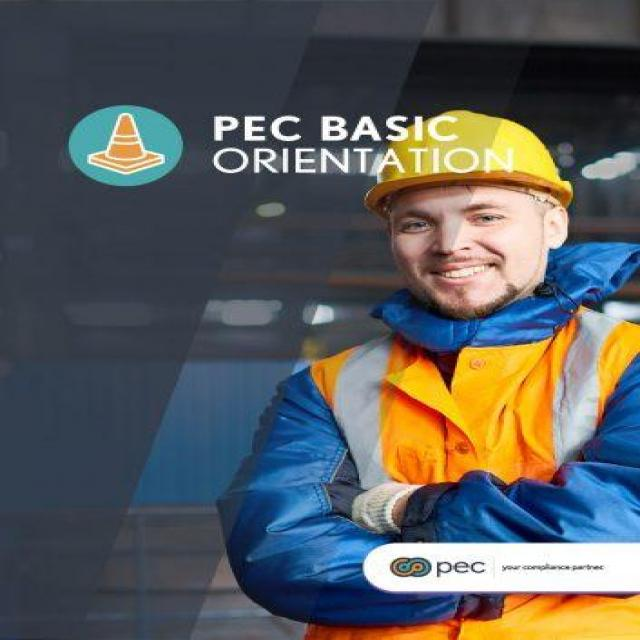Reflective-Jacket: (291, 306, 636, 640)
Safety-Helmet: (359, 105, 573, 207)
